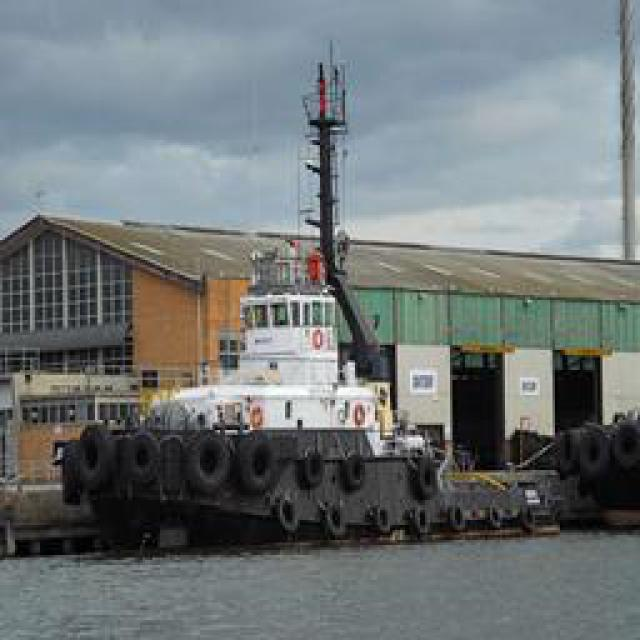Ship: (58, 15, 566, 535)
